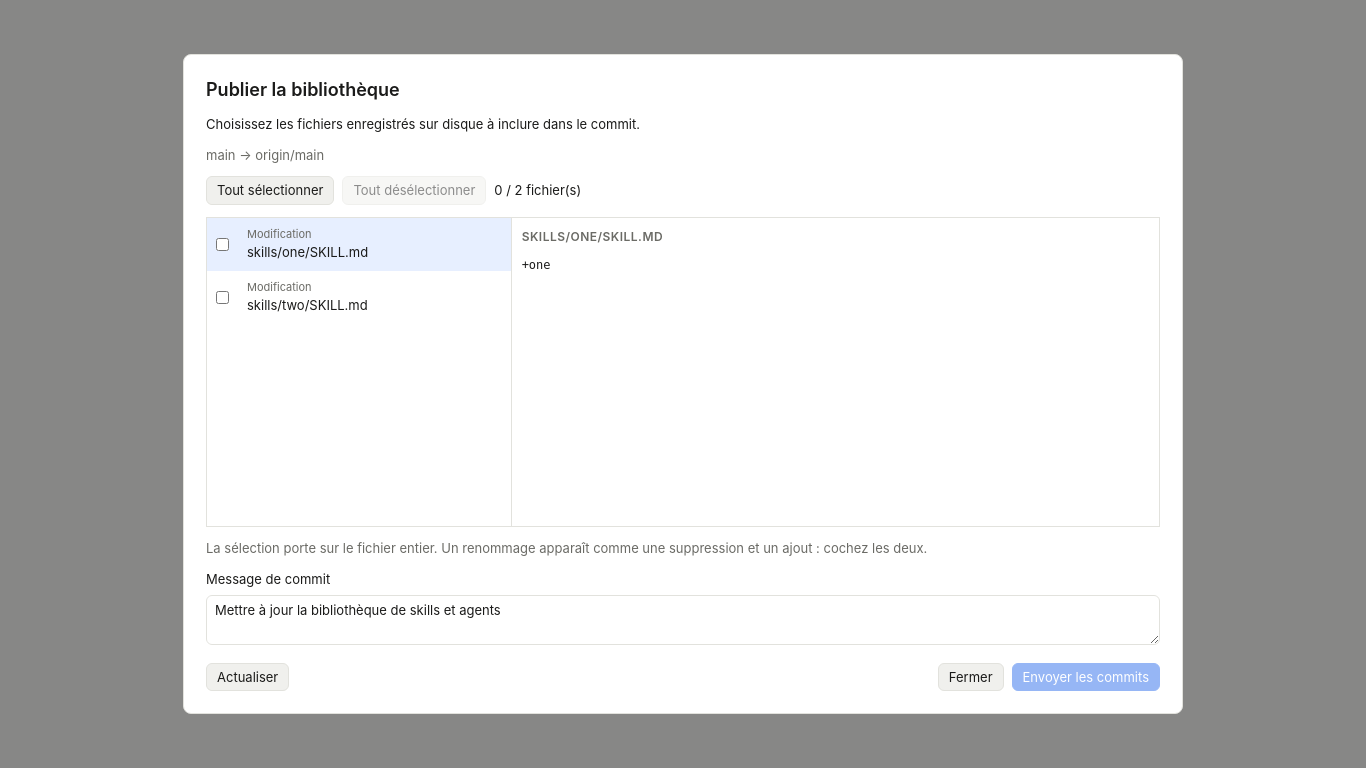
Test: publication › sends only the checked files with the reviewed snapshot and the edited message
The width and height of the screenshot is (1366, 768).
expect the button "Envoyer les commits" is disabled: met, box x1=1012 y1=663 x2=1160 y2=691
Click the checkbox named "Inclure skills/two/SKILL.md" at (222, 297), box x1=216 y1=291 x2=229 y2=304
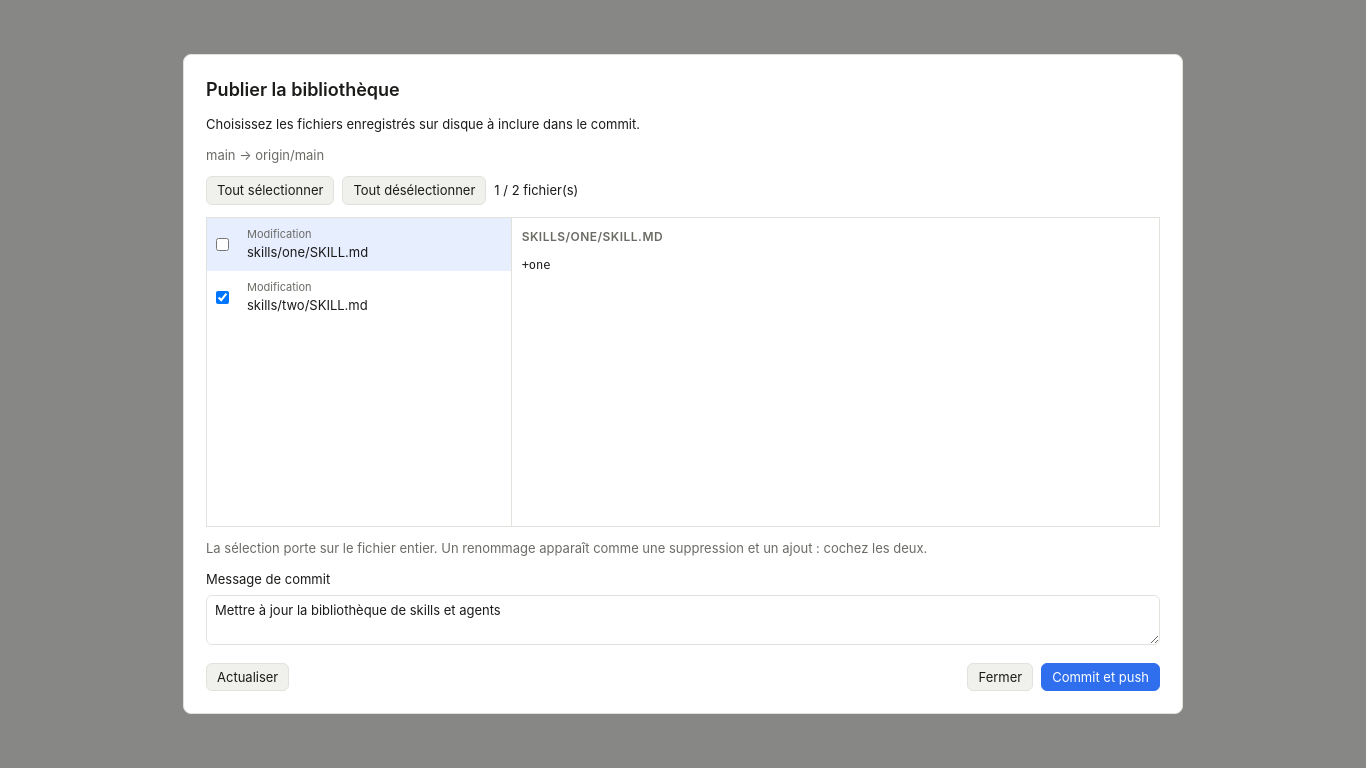
Replace the text in the text box labelled "Message de commit" with "Clarifie two" at (683, 620), box x1=206 y1=595 x2=1160 y2=645
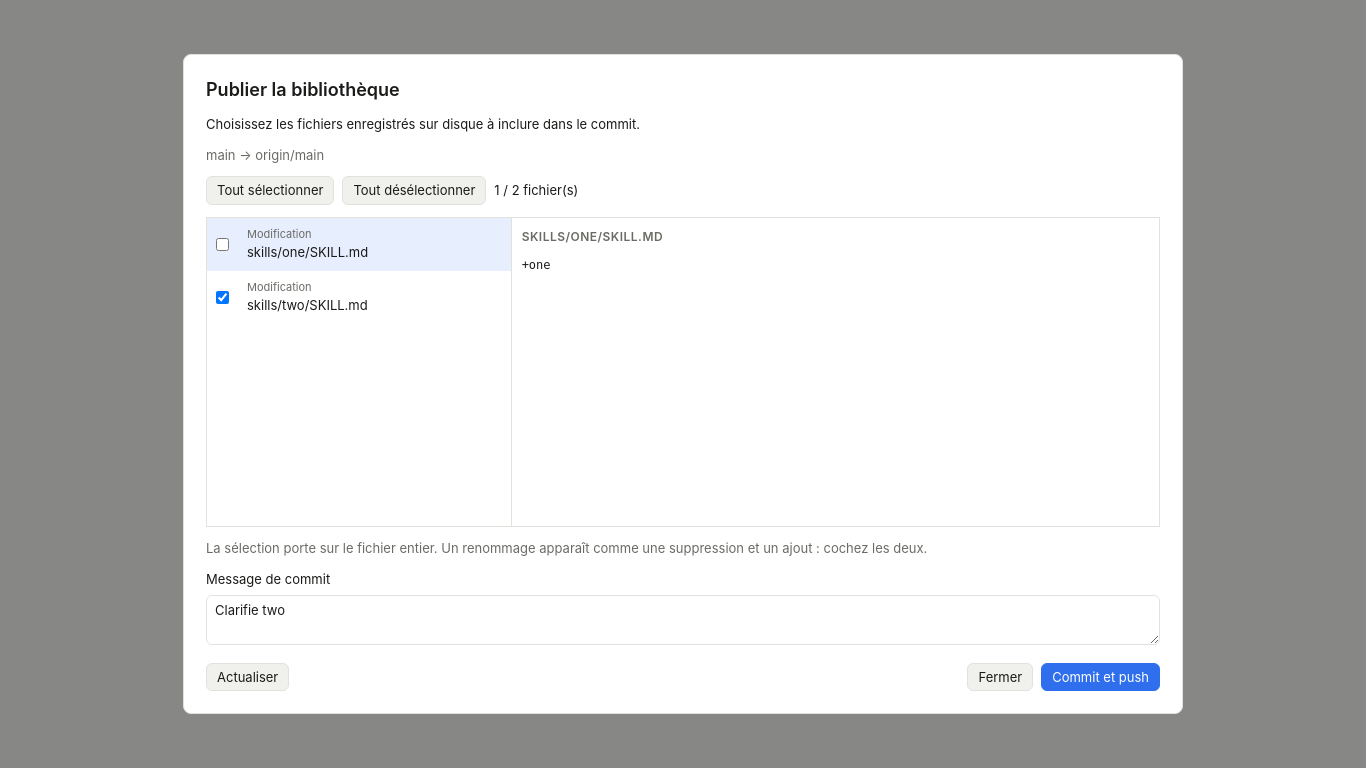
Click the button "Commit et push" at (1101, 677), box x1=1041 y1=663 x2=1160 y2=691
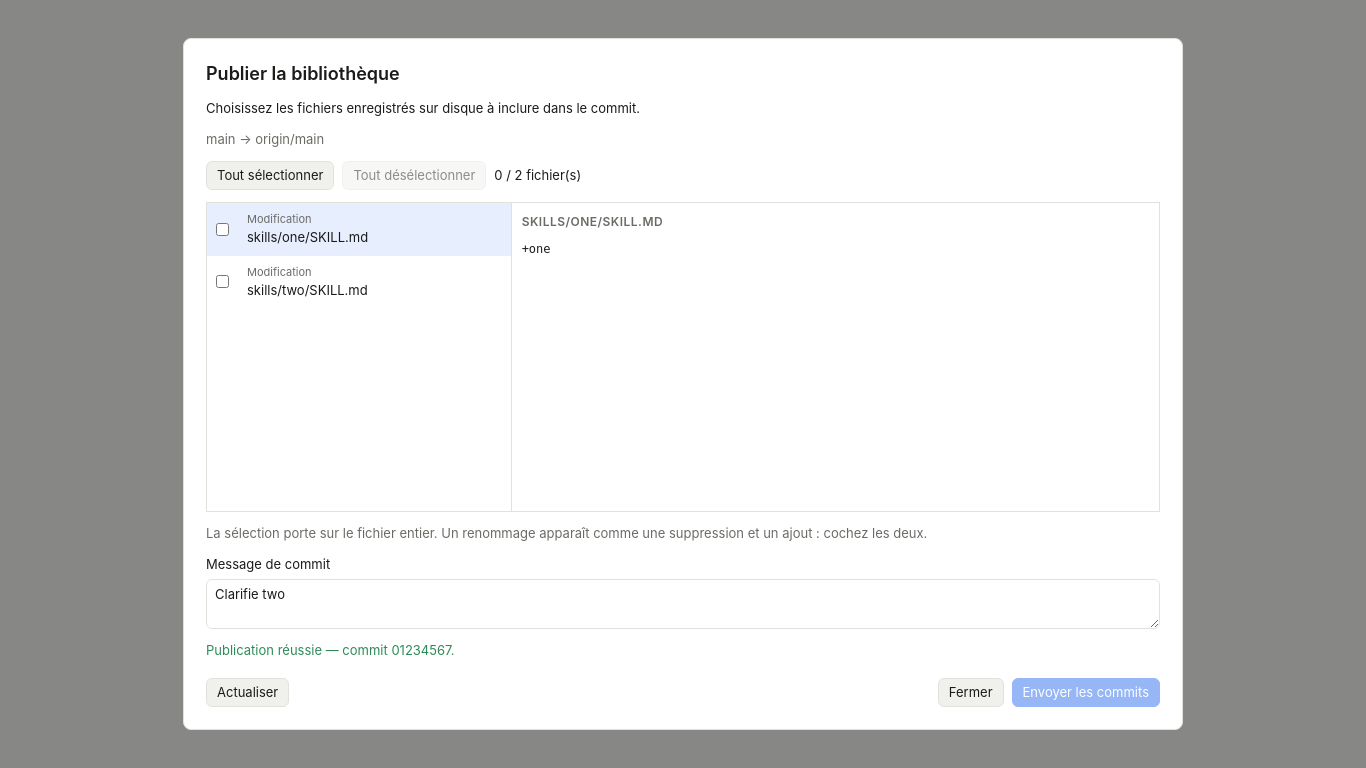
expect the text "Publication réussie — commit 01234567." is shown: met, box x1=206 y1=642 x2=454 y2=658
